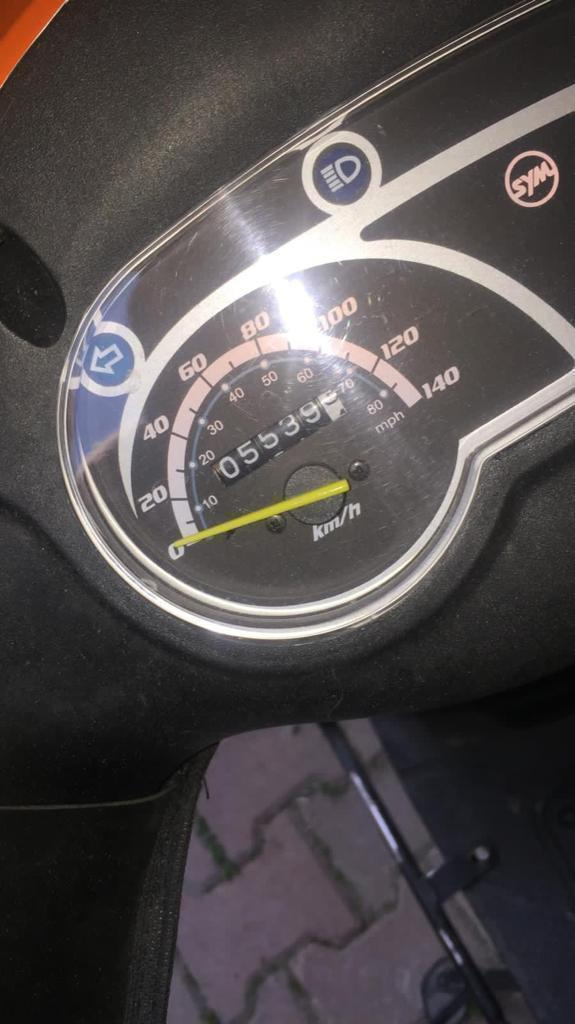0: (217, 455, 239, 479), (213, 418, 224, 431), (234, 386, 244, 399), (206, 449, 215, 461)
3: (276, 412, 299, 436), (319, 387, 337, 406), (207, 424, 216, 436)
4: (228, 391, 237, 403)
5: (235, 438, 259, 464), (258, 426, 278, 449)
9: (298, 400, 320, 424)
odometer: (206, 384, 351, 491)
